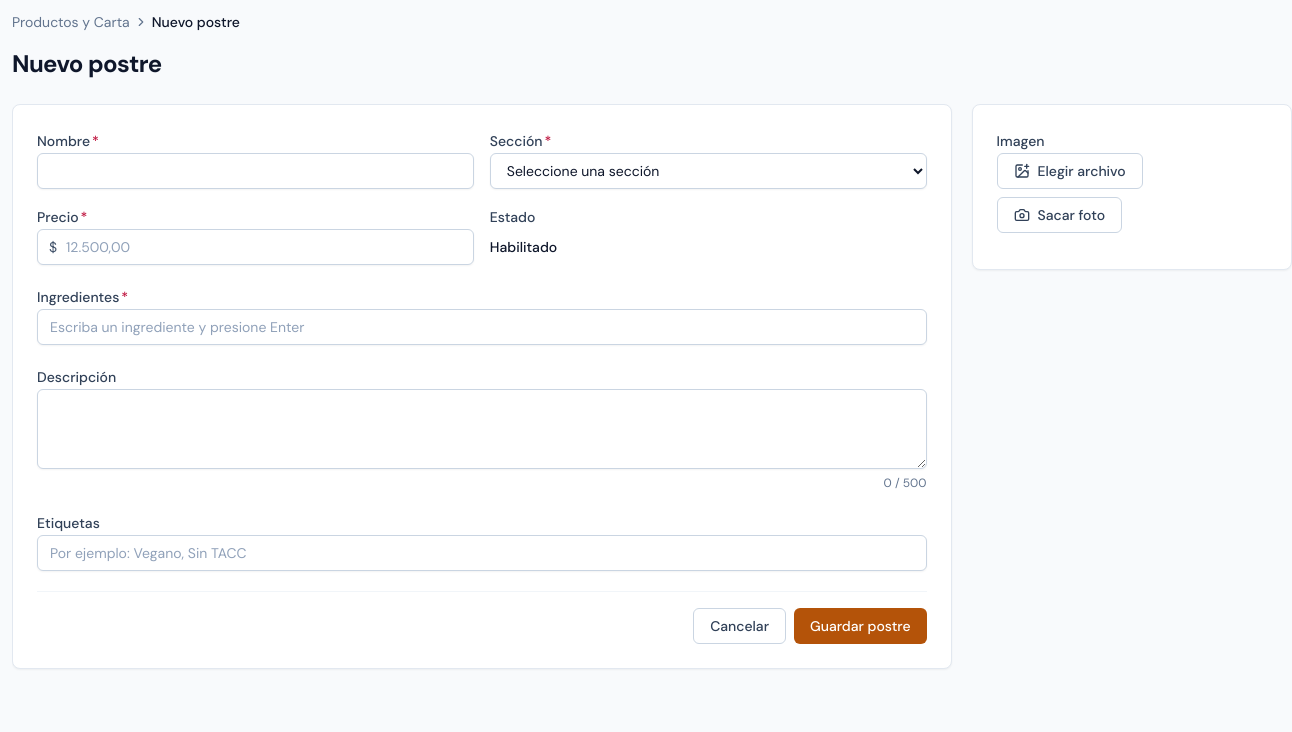
Scenario: ProductoNuevoPage POSTRE: validaciones › advierte el 409 de nombre repetido en el campo y no sale de la página (CA 3)
The image size is (1292, 732).
Type " Milanesa " into the field labelled "Nombre*".
click(255, 171); type(" Milanesa ")  # box [37,153,474,189]
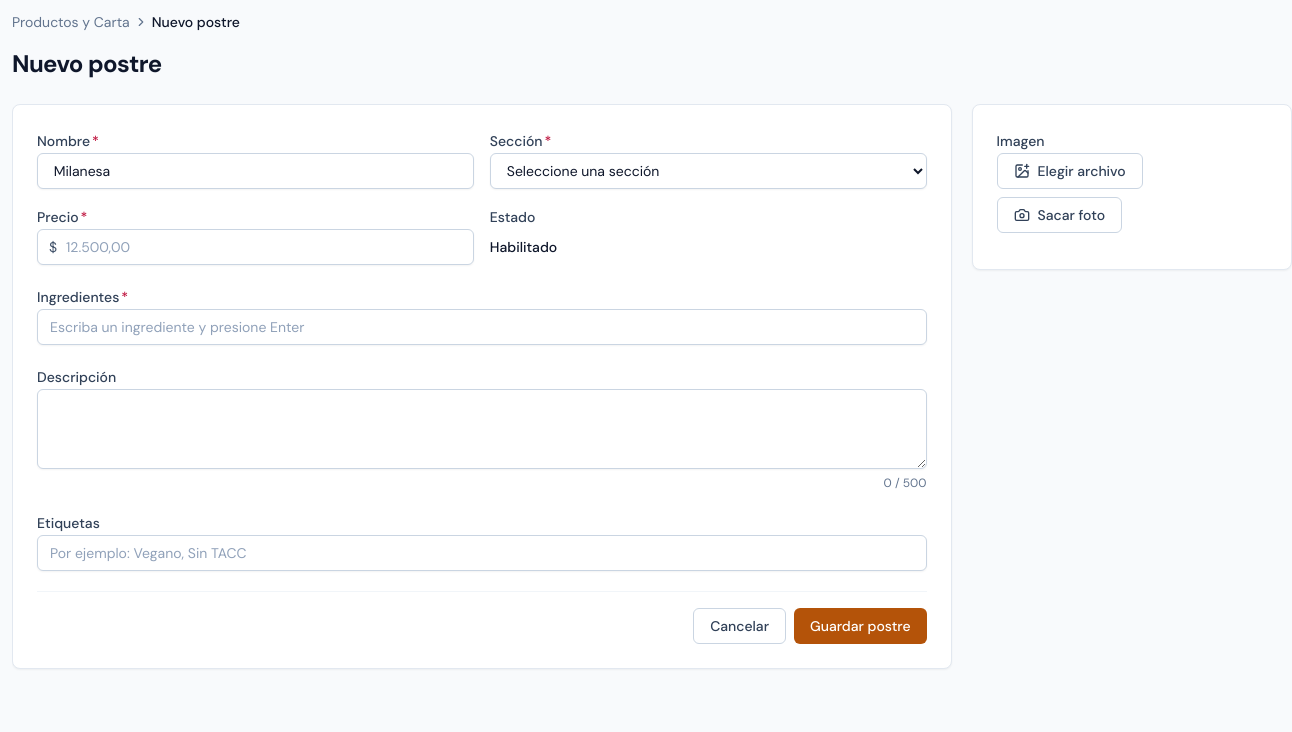
Select "Platos principales" in the dropdown labelled "Sección*" at x=708, y=171, box [490,153,927,189]
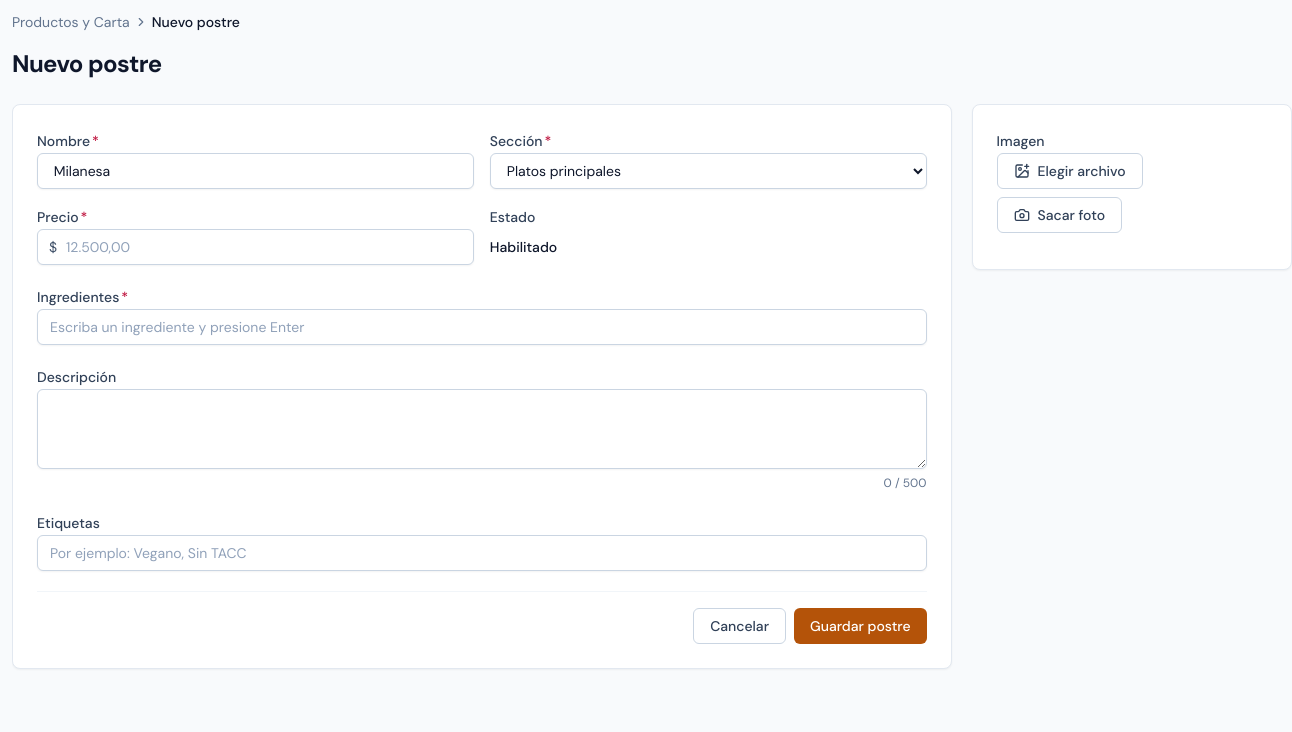
Type "12.500,50" into the field labelled "Precio*".
click(255, 247); type("12.500,50")  # box [37,229,474,265]
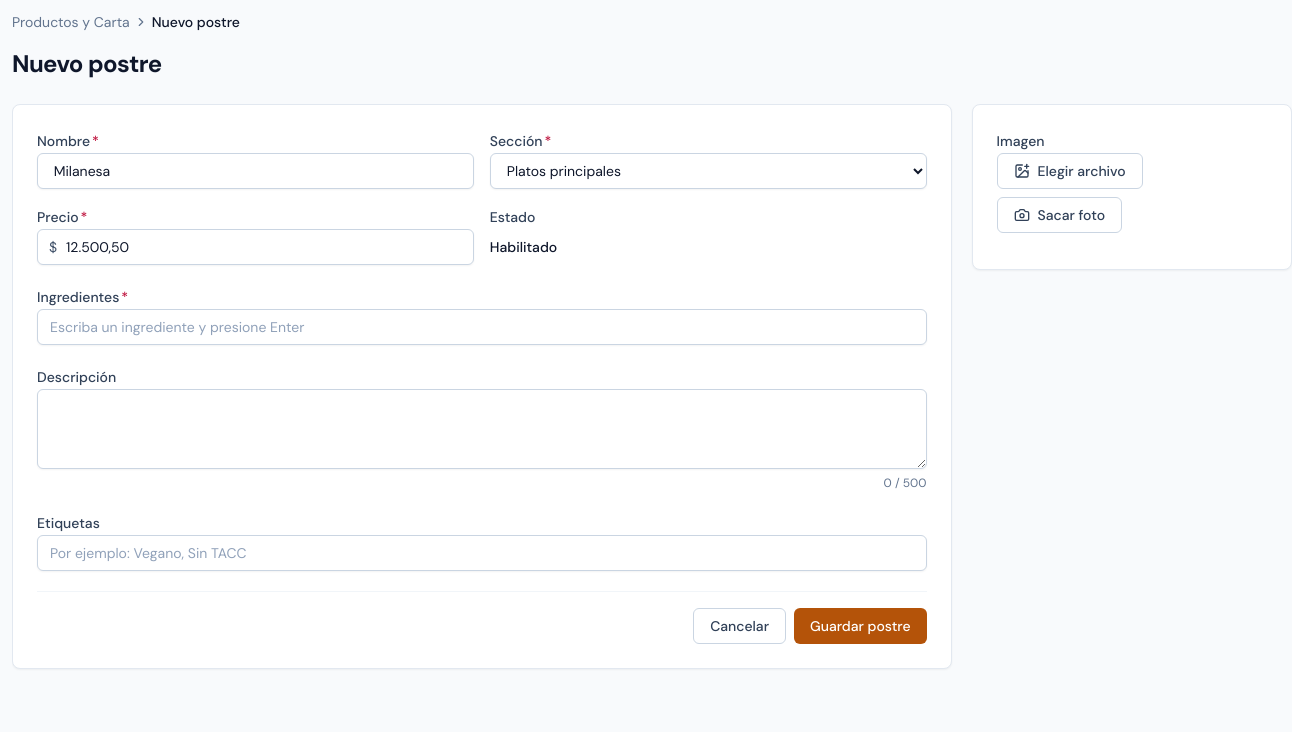
Type "Carne" into the field labelled "Ingredientes*".
click(482, 327); type("Carne")  # box [37,309,926,345]
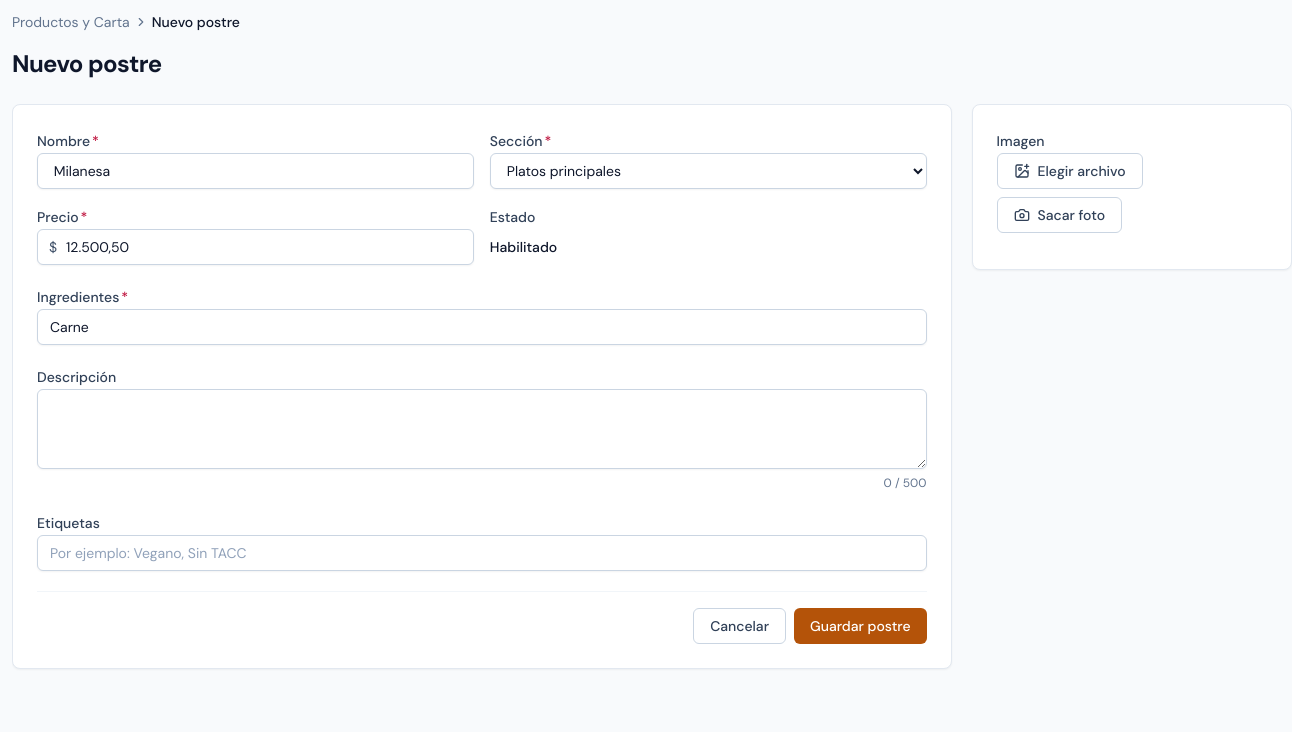
Press Enter in the field labelled "Ingredientes*", box [37,309,926,345]
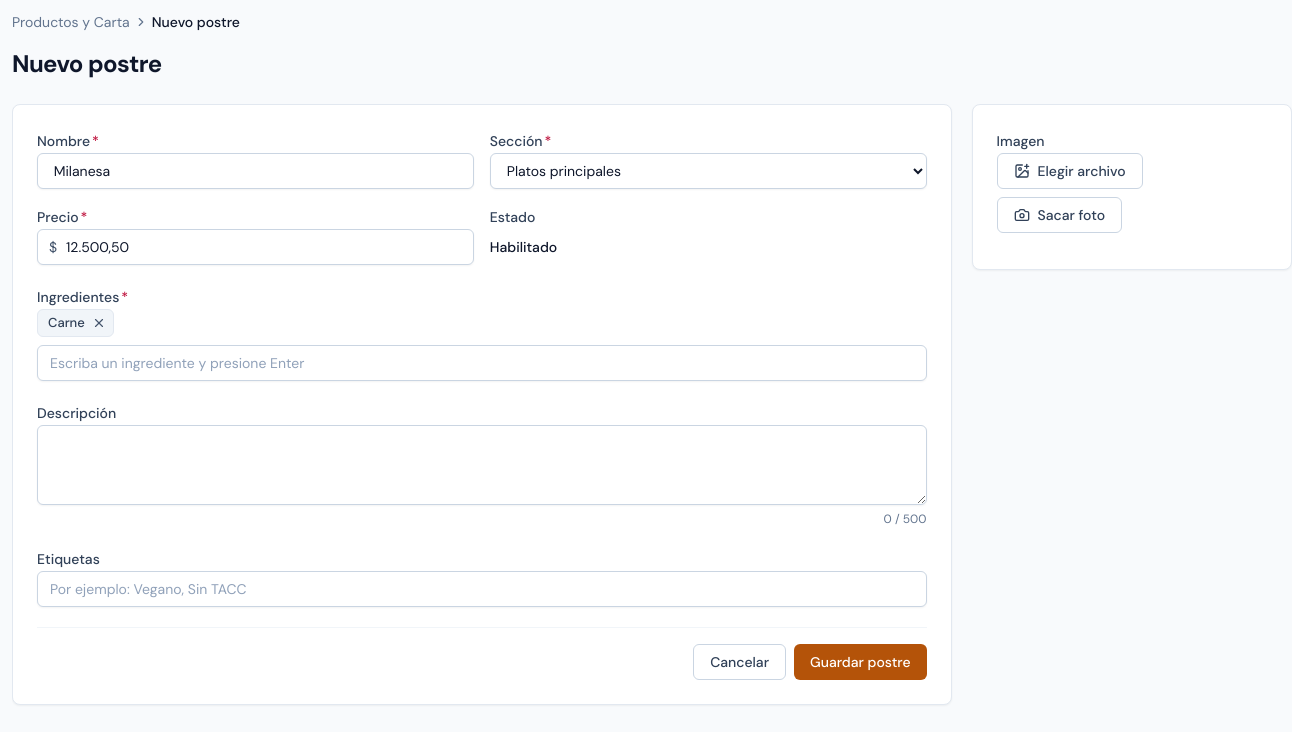
Click the button "Guardar postre".
click(860, 662)  # box [794,644,926,680]
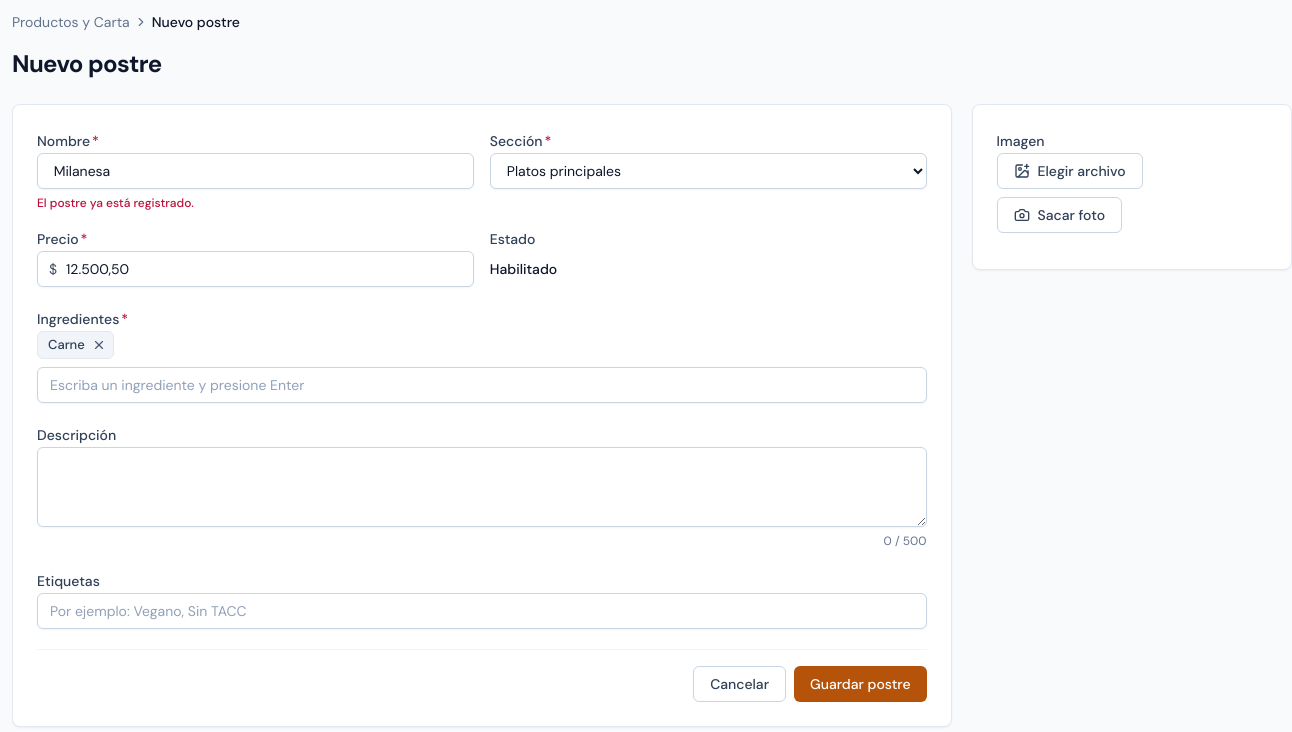
Now the text "El postre ya está registrado." is shown, box [37,195,194,211]
